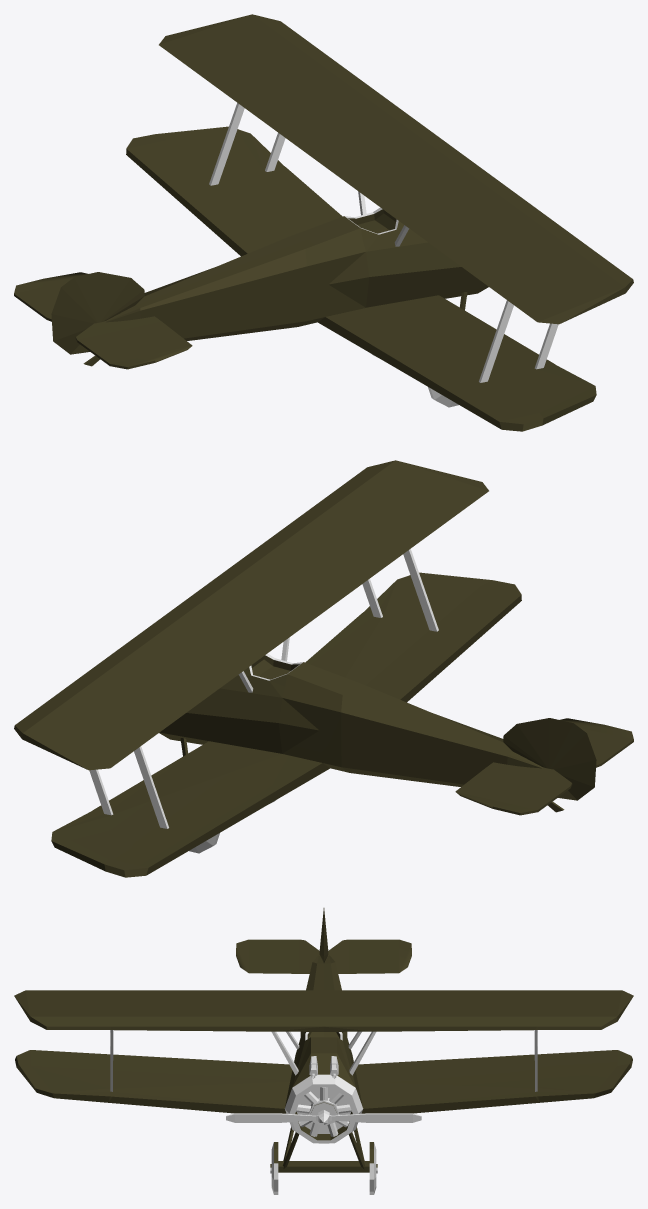
The model's file is camel4.fbx.
3 views of the same model, one above another, from view 1: azimuth 30°, elevation 25°; view 2: azimuth 150°, elevation 25°; view 3: azimuth 270°, elevation 25° (orthographic). The views are drawn at different scales.
Visible parts, largest first — view 1: Body; view 2: Body; view 3: Body, Prop.
Part boxes in pixels (x1,y1,x2,y2): Body: (14,14,633,431); Body: (14,460,633,877); Body: (14,908,633,1194); Prop: (226,1110,421,1124).
Size of the model in its own units: 224 by 108 by 338.
